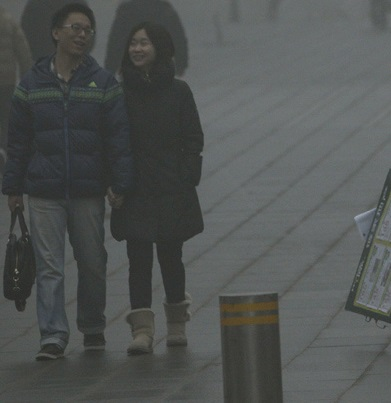person: (9, 7, 118, 362), (105, 20, 211, 360), (106, 1, 190, 81), (21, 1, 97, 65), (1, 9, 31, 97)
